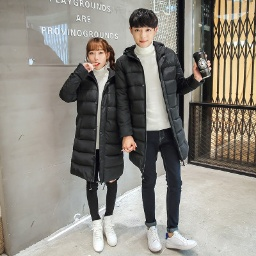face: (130, 8, 160, 45), (84, 38, 115, 70)
